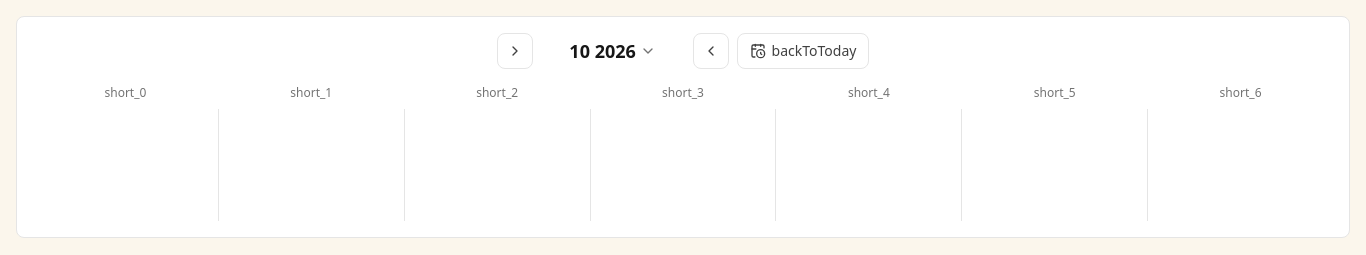
Scenario: current period scrolling › shows the current calendar month and switches months with arrows
Expected: the heading "10 2026" is shown, [561, 33, 664, 69]
Expected: the heading "9 2026" is not shown
Click the button named "previousMonth" at (515, 51), box [497, 33, 533, 69]
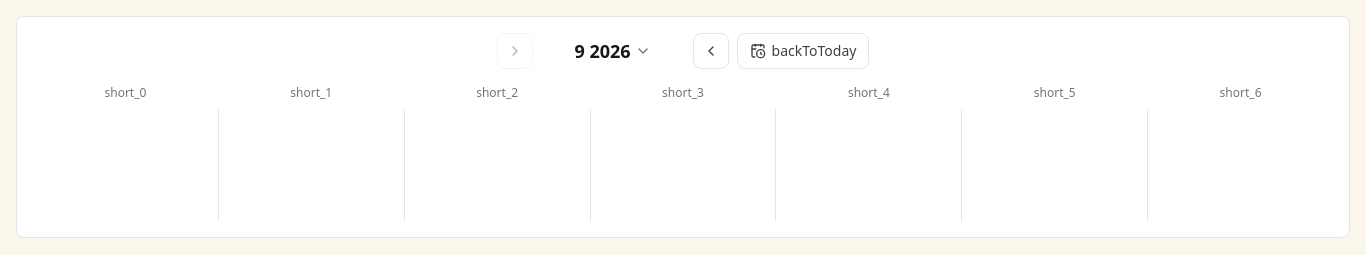
Expected: the heading "9 2026" is shown, [566, 33, 659, 69]
Click the button "backToToday" at (803, 51), box [737, 33, 869, 69]
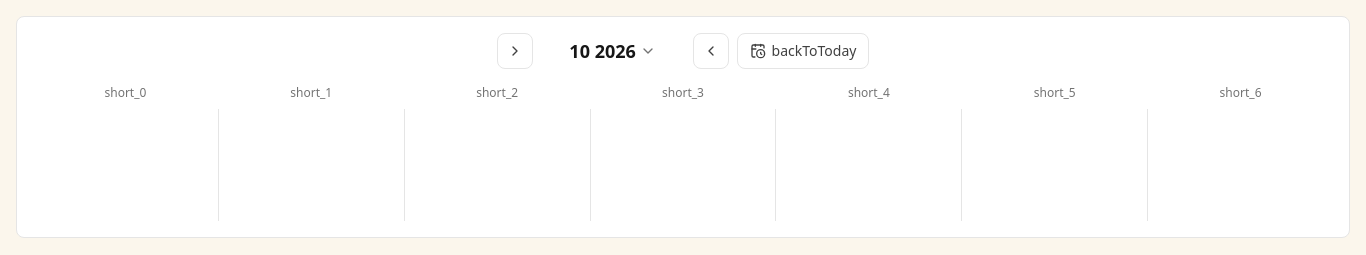
Expected: the heading "10 2026" is shown, [561, 33, 664, 69]
